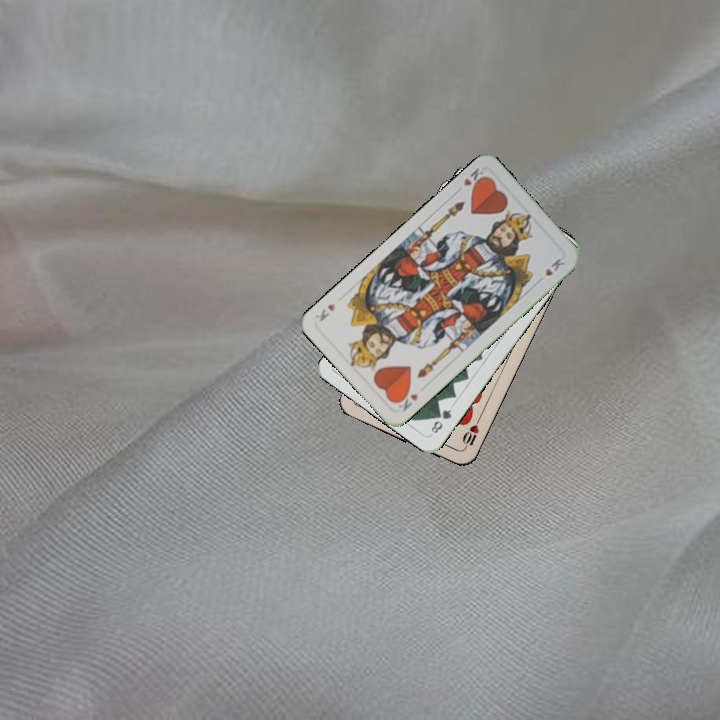G8: (427, 405, 454, 436)
H10: (458, 414, 483, 452)
HK: (452, 164, 489, 196), (392, 387, 421, 414)
